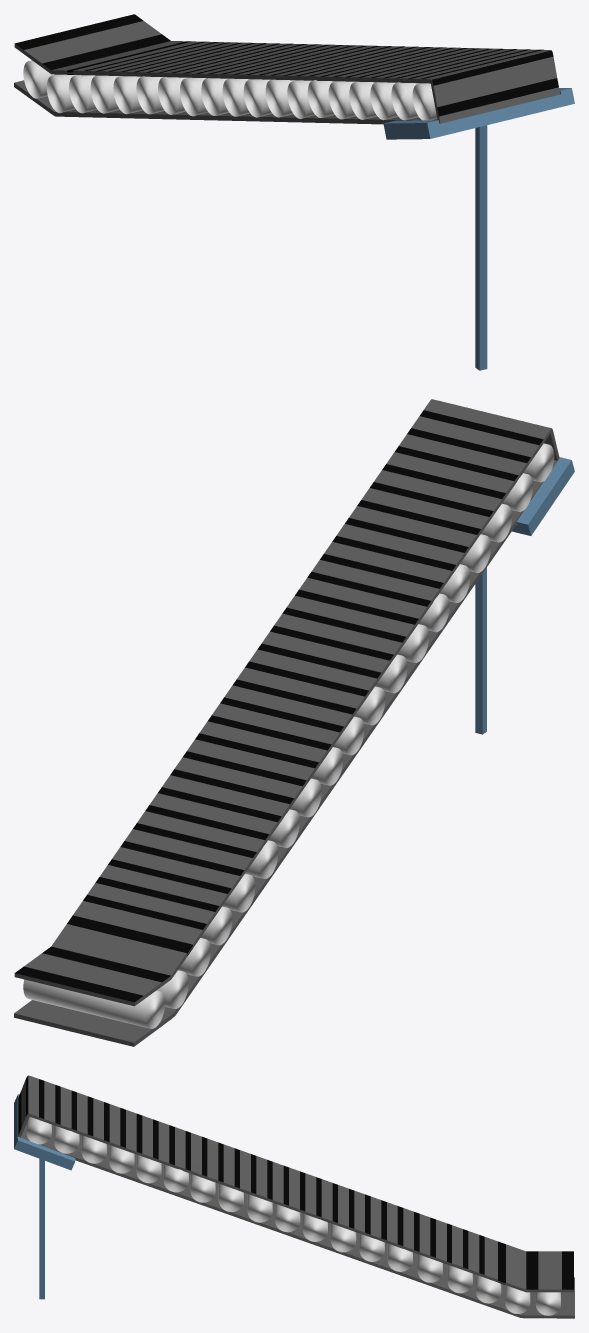
File: conveyorbelt.fbx
3 renders of one model, top to bottom at view 1: azimuth 30°, elevation 25°; view 2: azimuth 150°, elevation 25°; view 3: azimuth 270°, elevation 25°, orthographic. The views are drawn at different scales.
Visible parts, largest first — view 1: Cube.001, Cube.002, Cube.003, Cylinder.014, Cylinder.015, Cylinder.017, Cylinder.008, Cylinder.012, Cylinder.007, Cylinder.016, Cylinder.011, Cylinder.013 (+10 smaller); view 2: Cube.001, Cylinder.018, Cube.002, Cube.003; view 3: Cube.001, Cube.003, Cube.002, Cylinder.006, Cylinder.017, Cylinder.008, Cylinder.004, Cylinder.011, Cylinder.003, Cylinder.015, Cylinder.016, Cylinder.007 (+10 smaller).
Part boxes in pixels (x1,y1,x2,y2): Cube.001: [14, 14, 560, 124]; Cube.002: [475, 125, 487, 370]; Cube.003: [383, 88, 574, 139]; Cylinder.014: [113, 76, 142, 114]; Cylinder.015: [90, 75, 119, 113]; Cylinder.017: [46, 74, 76, 113]; Cylinder.008: [243, 79, 272, 117]; Cylinder.012: [158, 77, 188, 114]; Cylinder.007: [265, 79, 295, 117]; Cylinder.016: [69, 75, 97, 113]; Cylinder.011: [180, 77, 208, 116]; Cylinder.013: [136, 76, 164, 114]; Cube.001: [14, 399, 559, 1046]; Cylinder.018: [23, 979, 165, 1028]; Cube.002: [475, 567, 486, 734]; Cube.003: [512, 457, 574, 535]; Cube.001: [17, 1075, 574, 1318]; Cube.003: [14, 1094, 75, 1170]; Cube.002: [39, 1159, 44, 1299]; Cylinder.006: [190, 1173, 215, 1202]; Cylinder.017: [505, 1285, 530, 1313]; Cylinder.008: [247, 1194, 272, 1222]; Cylinder.004: [136, 1154, 161, 1183]; Cylinder.011: [331, 1223, 356, 1252]; Cylinder.003: [109, 1145, 134, 1173]; Cylinder.015: [447, 1265, 472, 1293]; Cylinder.016: [476, 1275, 501, 1303]; Cylinder.007: [218, 1184, 243, 1211].
Size of the model in its own units: 352 by 729 by 1810.
